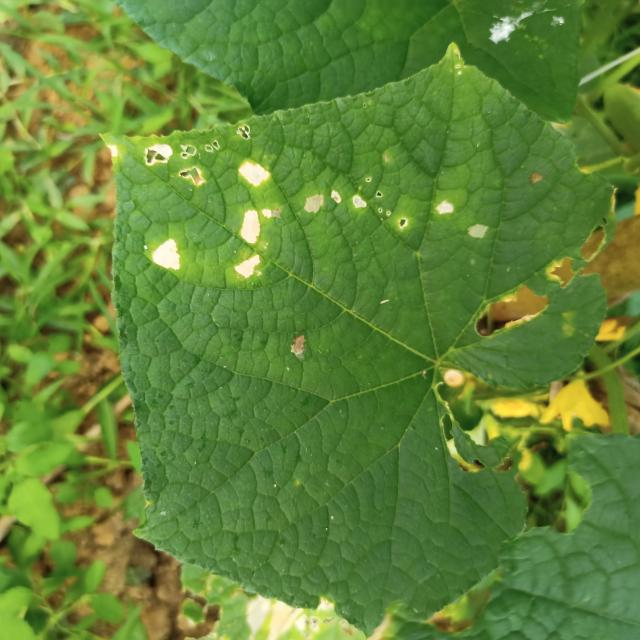disease_cucumber: (108, 136, 293, 296), (301, 143, 486, 260)
